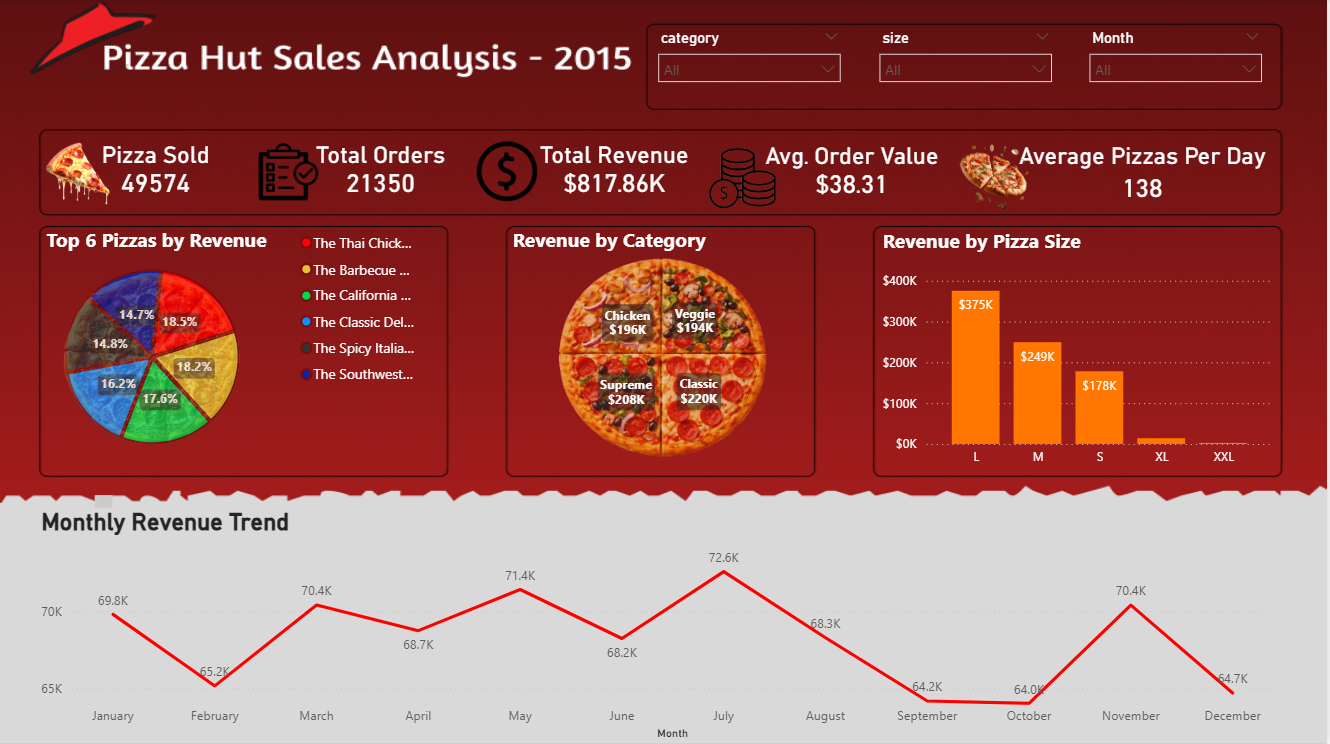

The dashboard page shown, as its layout file describes it:
{"tool":"powerbi","page":{"name":"Page 1","canvas":[1280,720],"ordinal":0},"visuals":[{"type":"pieChart","title":"Sales by Pizza Type","fields":{"Y":["Calculations.Total Revenue"],"Category":["pizza_types.name"]},"box":[0,217.2,416.2,257],"z":0},{"type":"image","box":[42.2,260.6,208.7,179.8],"z":1000},{"type":"textbox","box":[91.7,479,16.9,12.1],"z":2000},{"type":"card","title":"Pizza Sold","fields":{"Values":["Calculations.Total Pizzas Sold"]},"box":[83.2,136.3,133.9,59.1],"z":3000},{"type":"image","box":[35,136.3,79.6,66.4],"z":4000},{"type":"card","title":"Total Revenue","fields":{"Values":["Calculations.Total Revenue"]},"box":[515.2,136.3,155.6,59.1],"z":5000},{"type":"card","title":"Total Orders","fields":{"Values":["Calculations.Total Orders"]},"box":[289.5,136.3,155.6,59.1],"z":6000},{"type":"card","title":"Avg. Order Value","fields":{"Values":["Calculations.Avg Order Value"]},"box":[731.1,137.5,182.2,59.1],"z":7000},{"type":"card","title":"Average Pizzas Per Day","fields":{"Values":["Calculations.Avg Pizzas Per Day"]},"box":[977.2,137.5,250.9,66.4],"z":8000},{"type":"image","box":[506.7,240.1,265.4,219.6],"z":9000},{"type":"pieChart","fields":{"Y":["Calculations.Total Revenue"],"Category":["pizza_types.category"]},"box":[428.3,214.7,422.3,264.2],"z":10000},{"type":"lineChart","title":"Monthly Revenue Trend","fields":{"Y":["Calculations.Cumulative Revenue"],"Category":["orders.date.Variation.Date Hierarchy.Month"]},"box":[35,491,1199.2,229.2],"z":11000},{"type":"clusteredColumnChart","title":"Revenue by Pizza Size","fields":{"Category":["pizzas.size"],"Y":["Calculations.Total Revenue"]},"box":[846.9,220.8,387.3,238.9],"z":12000},{"type":"textbox","box":[489.8,214.7,234,89.3],"z":13000},{"type":"textbox","box":[39.8,214.7,234,89.3],"z":14000},{"type":"slicer","fields":{"Values":["pizza_types.category"]},"box":[624.9,24.1,196.6,76],"z":15000},{"type":"slicer","fields":{"Values":["pizzas.size"]},"box":[838.5,24.1,187,76],"z":16000},{"type":"slicer","fields":{"Values":["orders.date.Variation.Date Hierarchy.Month"]},"box":[1041.2,24.1,187,76],"z":17000},{"type":"image","box":[238.9,136.3,79.6,59.1],"z":18000},{"type":"image","box":[451.2,137.5,76,57.9],"z":19000},{"type":"image","box":[639.4,120.6,154.4,105],"z":20000},{"type":"image","box":[908.4,85.7,101.3,171.3],"z":21000}]}

Visuals, with their boxes in screenshot pixels (x1, y1, x2, y2), scaled from the page's 1280x720 canvas onto the 1330x744 screenshot:
"Sales by Pizza Type" pieChart: bbox=[0, 224, 432, 490]
image: bbox=[44, 269, 261, 455]
textbox: bbox=[95, 495, 113, 507]
"Pizza Sold" card: bbox=[86, 141, 226, 202]
image: bbox=[36, 141, 119, 209]
"Total Revenue" card: bbox=[535, 141, 697, 202]
"Total Orders" card: bbox=[301, 141, 462, 202]
"Avg. Order Value" card: bbox=[760, 142, 949, 203]
"Average Pizzas Per Day" card: bbox=[1015, 142, 1276, 211]
image: bbox=[526, 248, 802, 475]
pieChart - Calculations.Total Revenue x pizza_types.category: bbox=[445, 222, 884, 495]
"Monthly Revenue Trend" lineChart: bbox=[36, 507, 1282, 743]
"Revenue by Pizza Size" clusteredColumnChart: bbox=[880, 228, 1282, 475]
textbox: bbox=[509, 222, 752, 314]
textbox: bbox=[41, 222, 284, 314]
slicer - pizza_types.category: bbox=[649, 25, 854, 103]
slicer - pizzas.size: bbox=[871, 25, 1066, 103]
slicer - orders.date.Variation.Date Hierarchy.Month: bbox=[1082, 25, 1276, 103]
image: bbox=[248, 141, 331, 202]
image: bbox=[469, 142, 548, 202]
image: bbox=[664, 125, 825, 233]
image: bbox=[944, 89, 1049, 266]
